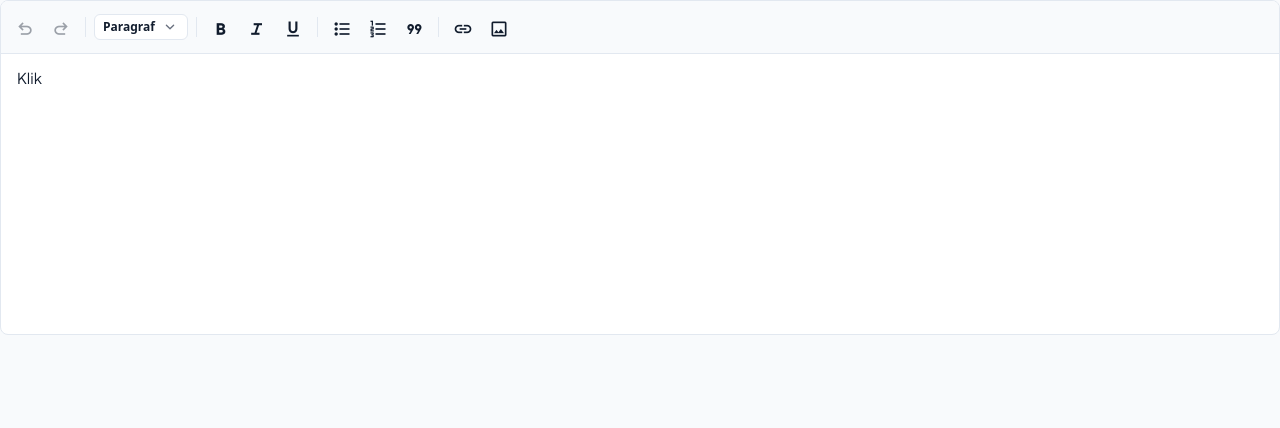
Scenario: EditorTeks (TipTap) › tautan › menolak tautan javascript: dengan pesan kesalahan
Click the button named "Tautan": [463, 27] box [447,9,479,45]
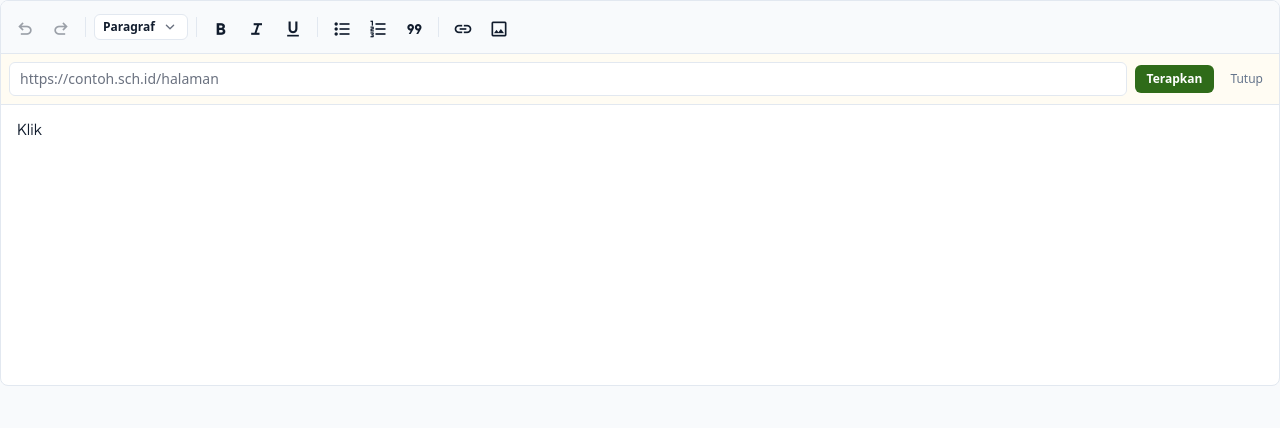
In the field named "Alamat tautan": [568, 79] box [9,62,1126,96], type "javascript:alert(1)"
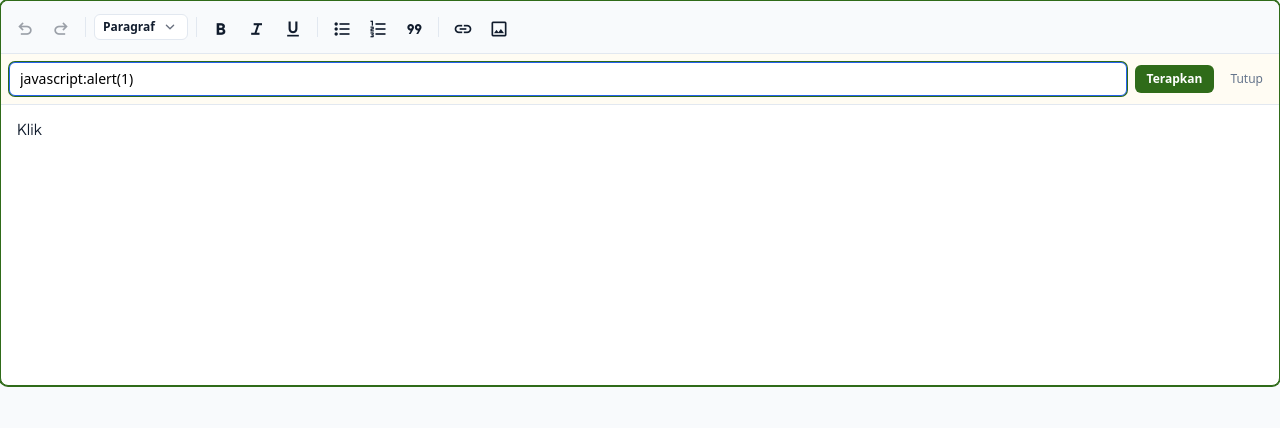
Click the button "Terapkan": [1174, 79] box [1134,65,1214,93]
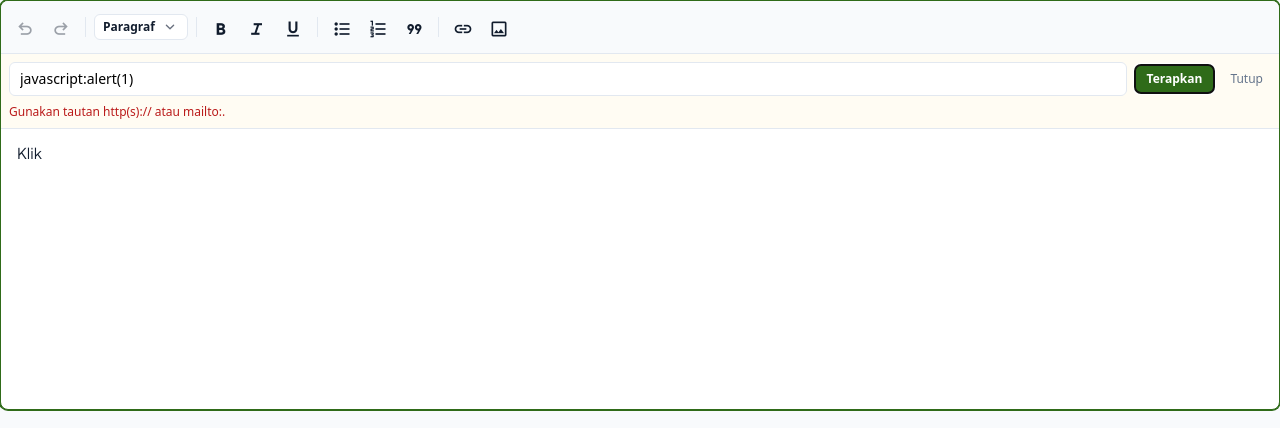
Check: the message reads "Gunakan tautan http(s):// atau mailto:.", box [9,103,225,120]
